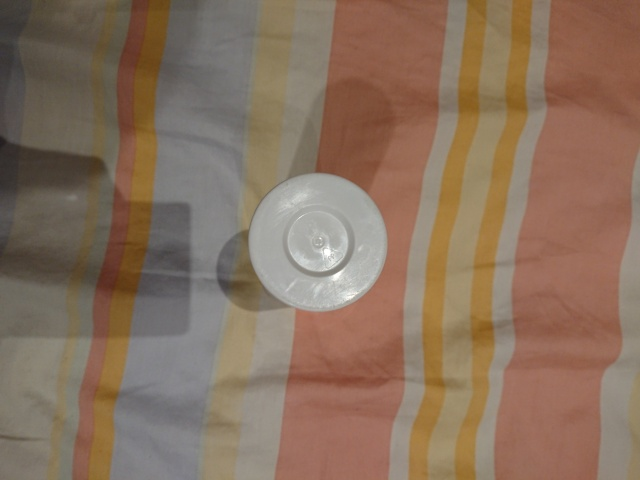Solana Pag Fine Sea Salt 250g: (245, 169, 391, 315)
